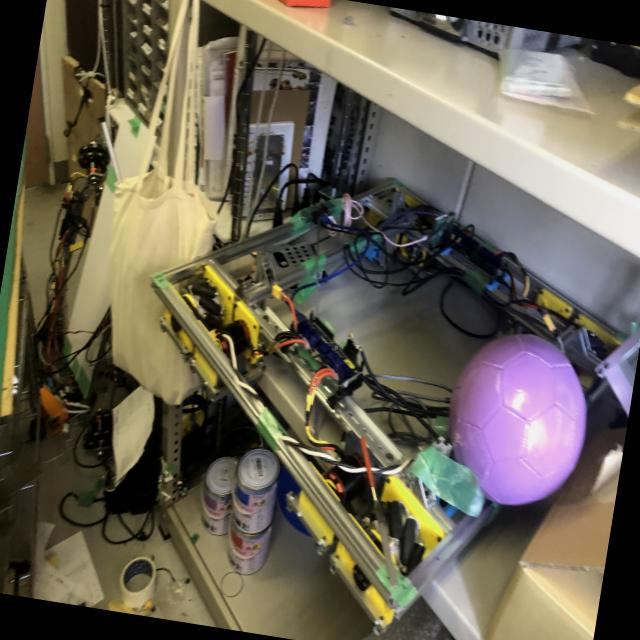purple_ball: (438, 324, 600, 514)
